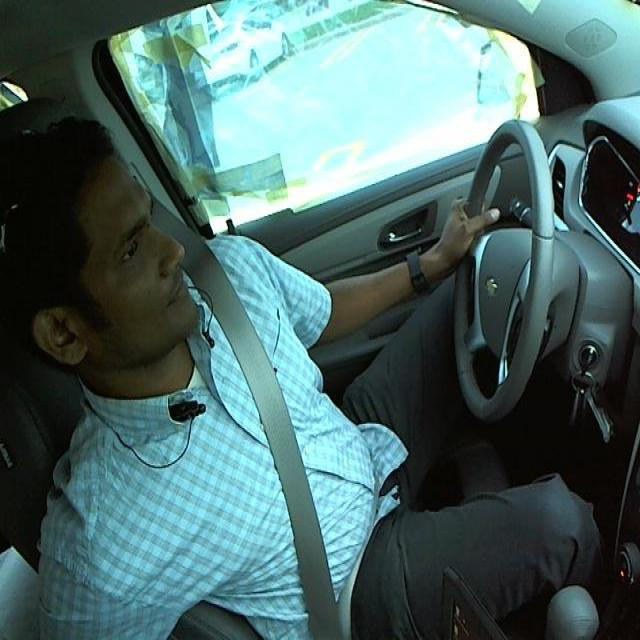seatbelt: (183, 276, 390, 636)
